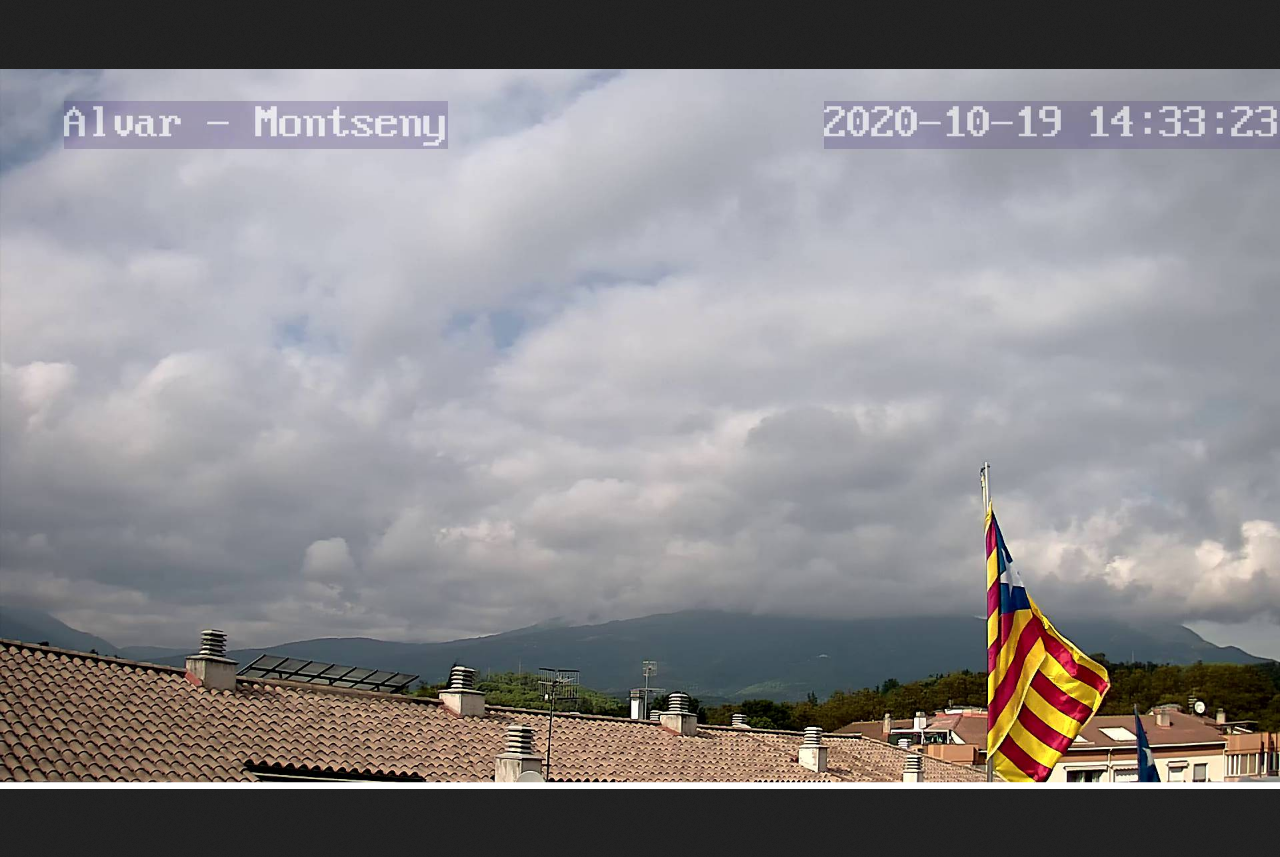no: (980, 514, 1113, 783)
